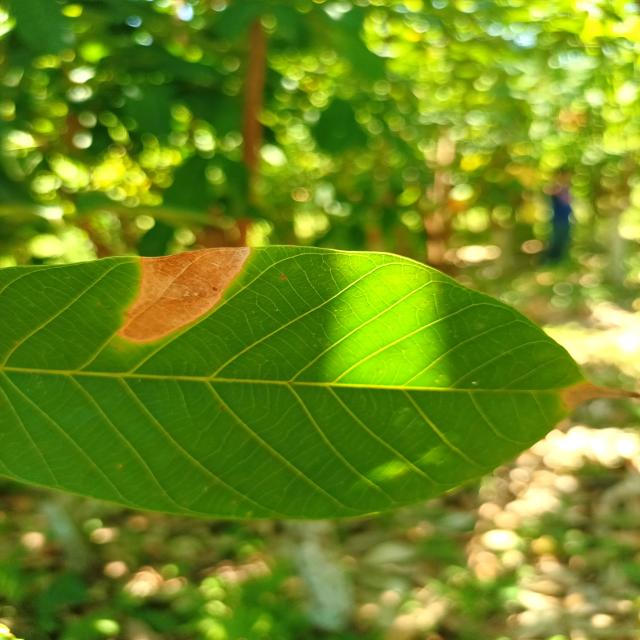Leaf-Blight: (117, 247, 252, 343), (560, 380, 640, 408)
